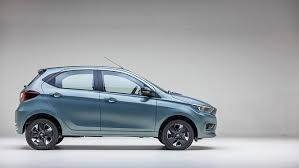Tiago: (15, 63, 221, 156)
